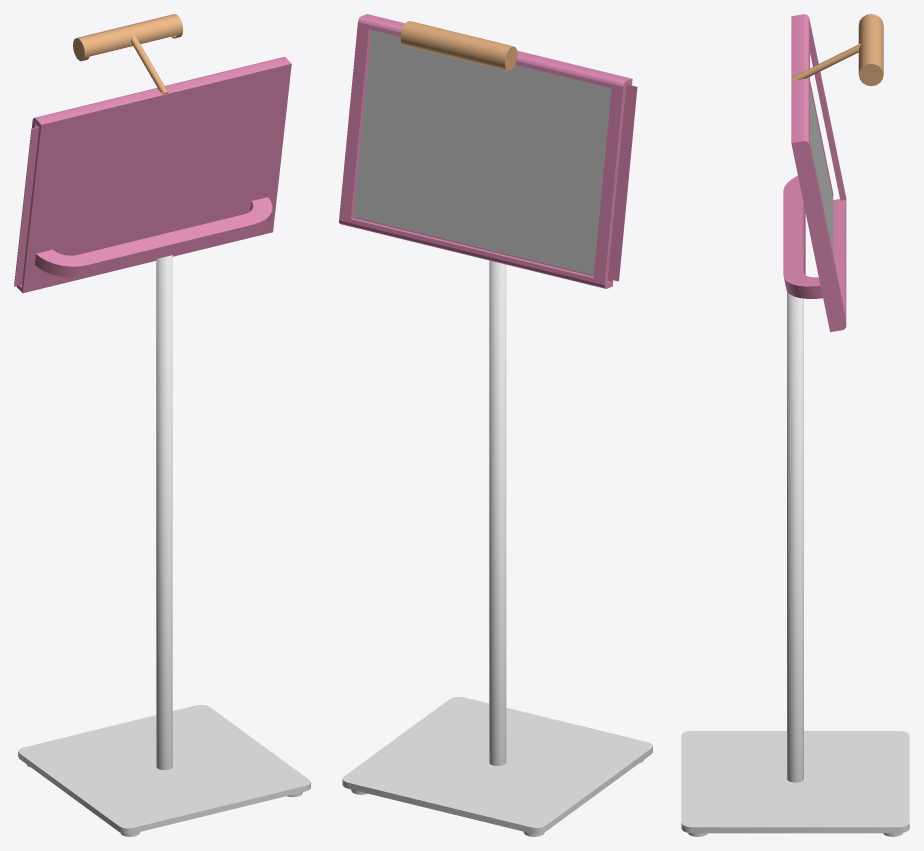
Rendered from InformationBoard2.fbx.
The picture shows the model from 3 angles, left to right: view 1: azimuth 30°, elevation 25°; view 2: azimuth 150°, elevation 25°; view 3: azimuth 270°, elevation 25°; orthographic projection. The views are drawn at different scales.
Visible parts, largest first — view 1: Frame, Base, Light, BoardBack; view 2: BoardMain, Base, Frame, Light, BoardBack; view 3: Base, Frame, Light, BoardMain.
Boxes of the visible parts, x1,y1,x2,y2 form: Frame: (16,57,291,293); Base: (18,255,310,836); Light: (73,14,182,94); BoardBack: (14,126,39,286); BoardMain: (353,30,611,275); Base: (342,260,652,836); Frame: (339,14,632,288); Light: (400,21,517,70); BoardBack: (607,85,637,281); Base: (681,291,909,836); Frame: (783,14,846,332); Light: (791,14,883,86); BoardMain: (810,87,833,254).
Bounding box in the file's own units: 0.3597 × 0.9679 × 0.2658.
